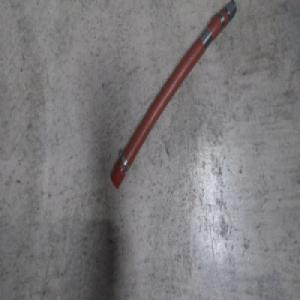Hose: (108, 2, 238, 191)
